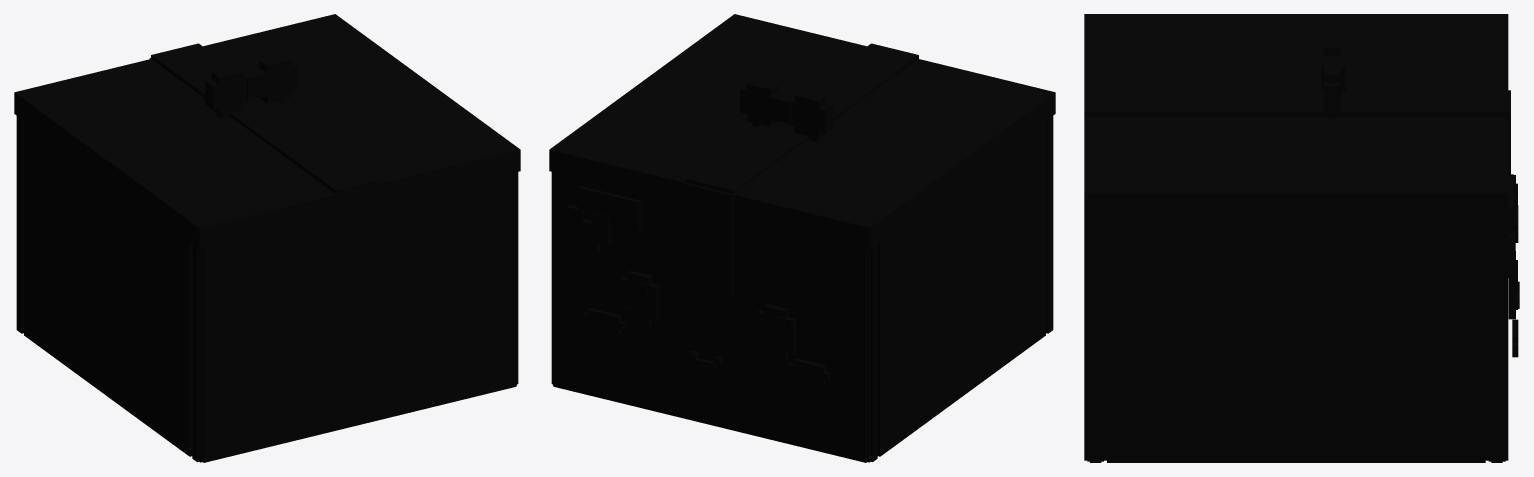
Rendered from hat_parcel.obj.
The picture shows the model from 3 angles, left to right: view 1: azimuth 30°, elevation 25°; view 2: azimuth 150°, elevation 25°; view 3: azimuth 270°, elevation 25°; orthographic projection. The views are drawn at different scales.
Bounding box in the file's own units: 0.5875 × 0.4875 × 0.6031.
